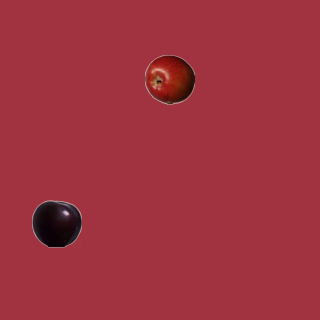Apple Braeburn: (144, 54, 194, 104)
Cherry Wax Black: (31, 198, 81, 248)
